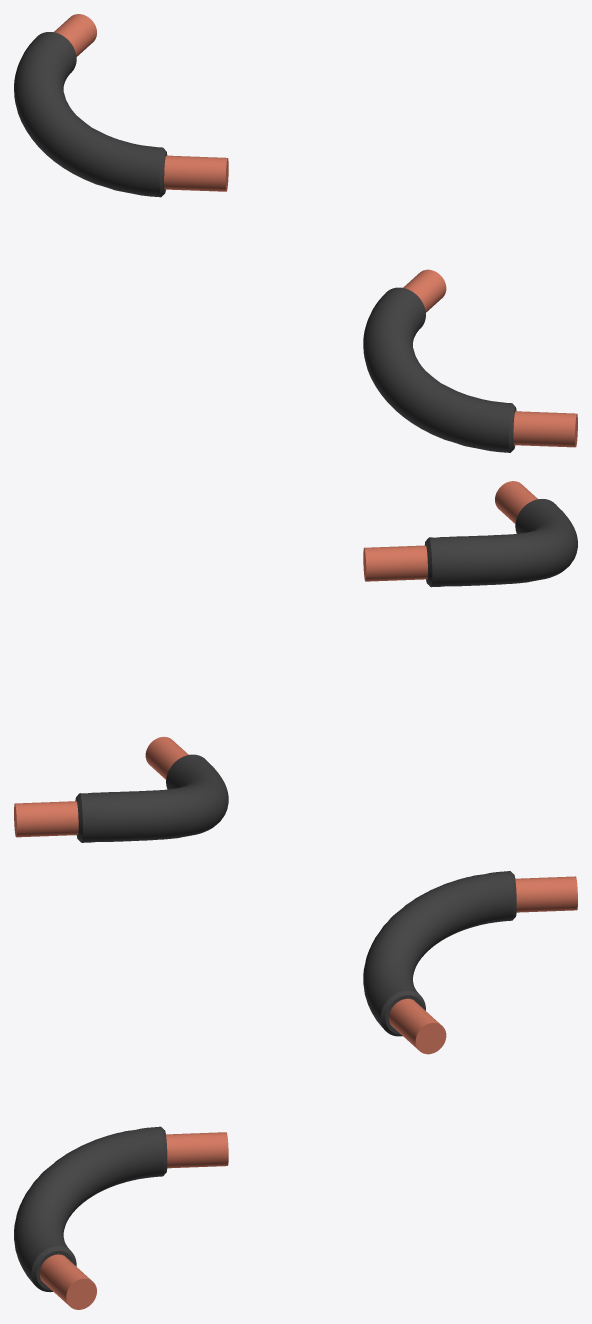
Rendered from BATTERY CRATE STACK V2__BATTERY CRATE L1__MODULE CONNECTION CABLE ASM B__MODULE CONNECTION CABLE B.glb.
The picture shows the model from 3 angles, top to bottom: view 1: azimuth 30°, elevation 25°; view 2: azimuth 150°, elevation 25°; view 3: azimuth 330°, elevation 25°; orthographic projection.
Visible parts, largest first — view 1: MODULE CONNECTION CABLE B 2, MODULE CONNECTION CABLE B 1; view 2: MODULE CONNECTION CABLE B 2, MODULE CONNECTION CABLE B 1; view 3: MODULE CONNECTION CABLE B 1, MODULE CONNECTION CABLE B 2.
Boxes of the visible parts, x1,y1,x2,y2 form: MODULE CONNECTION CABLE B 2: (363,269,577,452); MODULE CONNECTION CABLE B 1: (14,14,228,197); MODULE CONNECTION CABLE B 2: (363,481,577,587); MODULE CONNECTION CABLE B 1: (14,736,228,842); MODULE CONNECTION CABLE B 1: (363,871,577,1054); MODULE CONNECTION CABLE B 2: (14,1126,228,1309).
Size of the model in its own units: 0.0618 by 0.038 by 0.4181.
